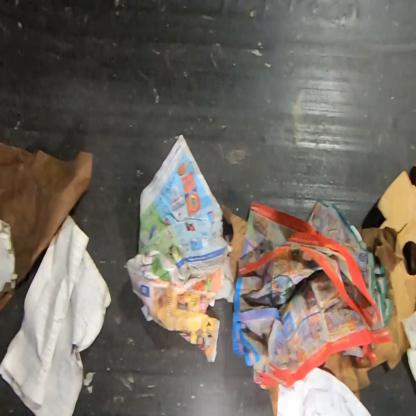cardboard: (357, 170, 415, 324), (323, 304, 410, 402), (219, 204, 248, 263)
